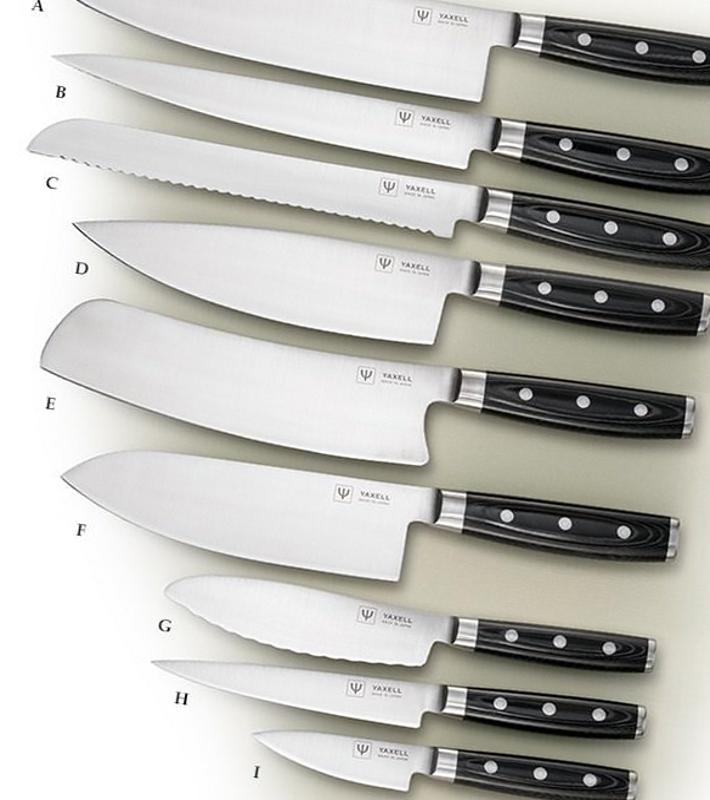knife: (47, 52, 710, 204), (150, 659, 649, 744)
